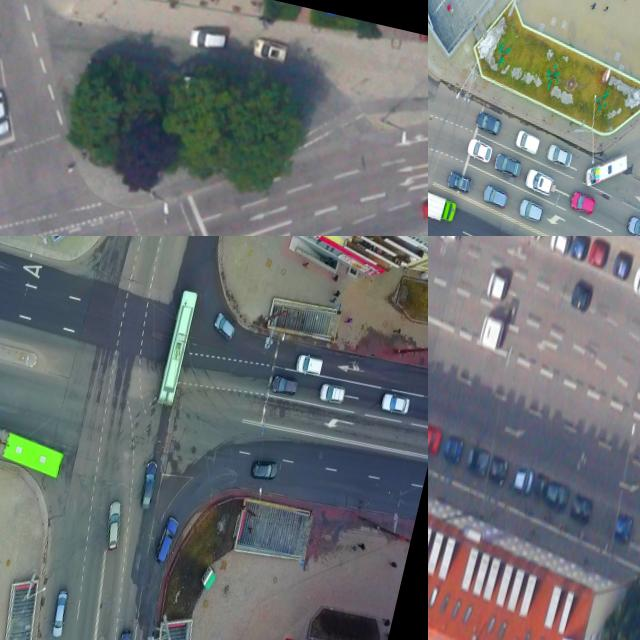UAI: (99, 498, 128, 553), (153, 514, 180, 567), (135, 458, 161, 511), (48, 588, 72, 640), (187, 24, 228, 54), (251, 37, 288, 65), (491, 150, 524, 180), (0, 85, 18, 138), (523, 168, 555, 197), (464, 444, 491, 478), (568, 492, 595, 526), (481, 182, 511, 212), (544, 142, 575, 171), (210, 311, 238, 343), (515, 196, 545, 225), (473, 108, 504, 136), (569, 278, 594, 312), (513, 128, 542, 157), (568, 189, 597, 218), (249, 457, 280, 484), (544, 480, 571, 511), (465, 136, 494, 164), (379, 390, 410, 416), (269, 372, 299, 398), (485, 270, 510, 301), (610, 247, 634, 279), (446, 170, 474, 196), (317, 381, 346, 406), (587, 238, 611, 268), (512, 467, 535, 496), (442, 434, 464, 464), (486, 456, 508, 486), (531, 469, 550, 502), (613, 513, 634, 541), (569, 236, 590, 260), (417, 184, 428, 225), (428, 425, 443, 454), (547, 236, 571, 254), (629, 263, 640, 301), (623, 212, 640, 236), (437, 236, 463, 243)
UAP: (428, 188, 459, 225)
car: (156, 289, 199, 408), (0, 416, 67, 478)
harvester: (583, 146, 630, 194), (477, 312, 507, 352), (293, 352, 324, 379)
